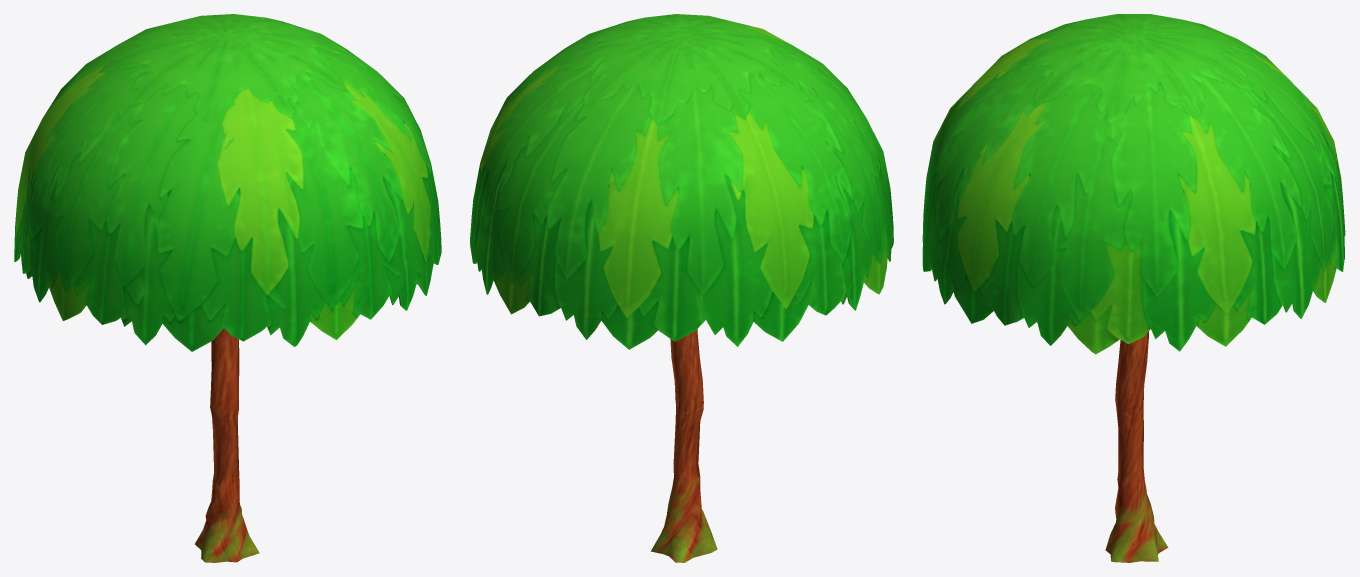
The model's file is Tree03.FBX.
3 views of the same model, side by side, from view 1: azimuth 30°, elevation 25°; view 2: azimuth 150°, elevation 25°; view 3: azimuth 270°, elevation 25° (orthographic).
Parts seen in each view (by area): view 1: Tree03; view 2: Tree03; view 3: Tree03.
Boxes of the visible parts, left/top/right/bottom form: Tree03: left=14, top=14, right=441, bottom=562; Tree03: left=470, top=14, right=893, bottom=562; Tree03: left=922, top=14, right=1345, bottom=562.
Size of what is drawn, in the model's own units: 4.97 by 6.72 by 4.98.
